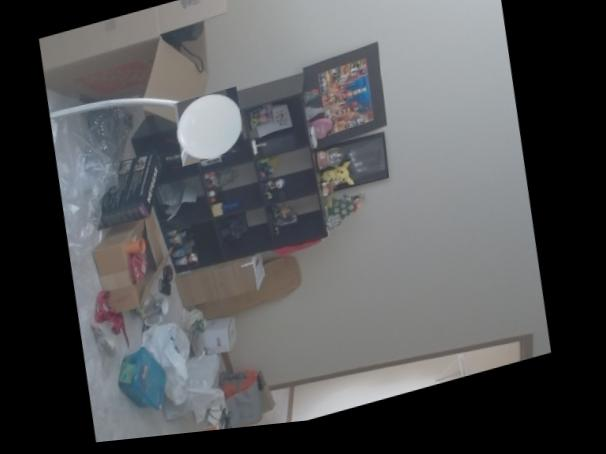Fan: (172, 90, 249, 171)
